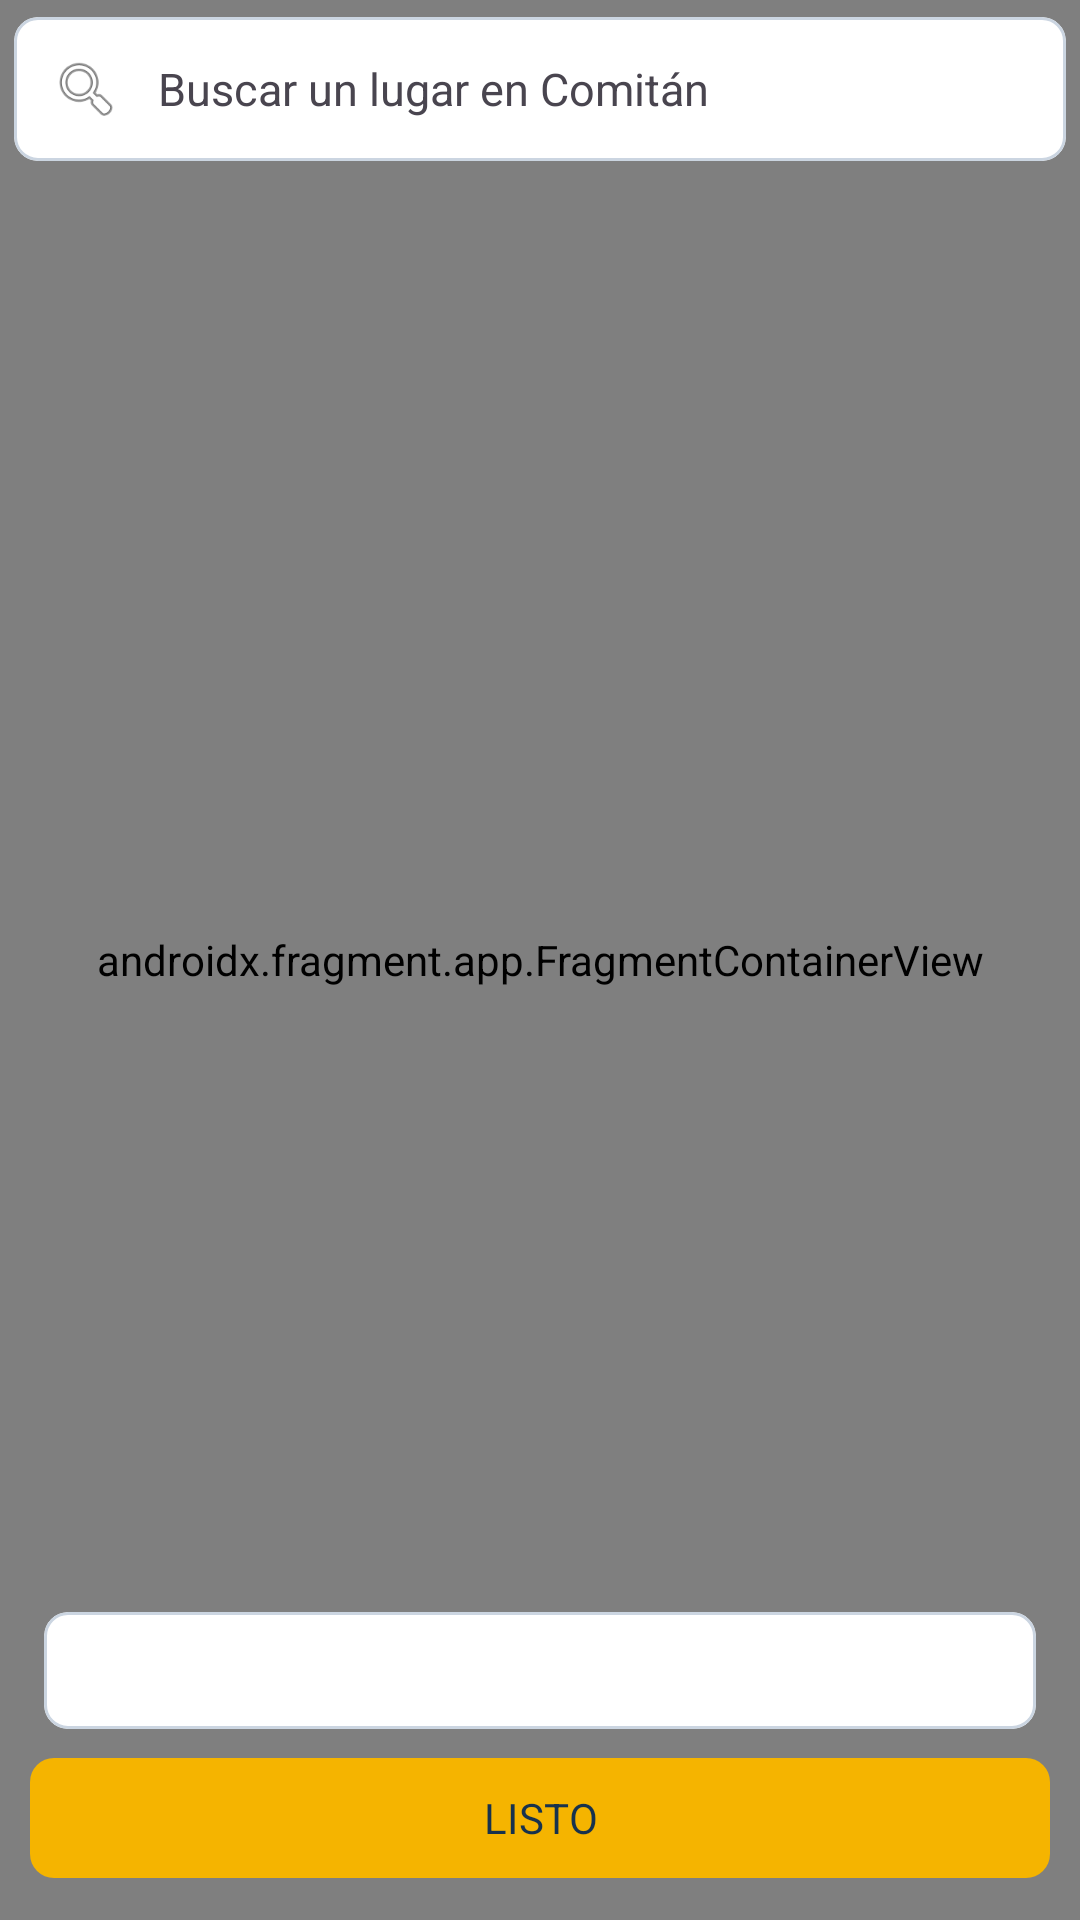

Named icons in this screenshot (1080x1920) and their centers, [x,y]:
search: [86,89]
